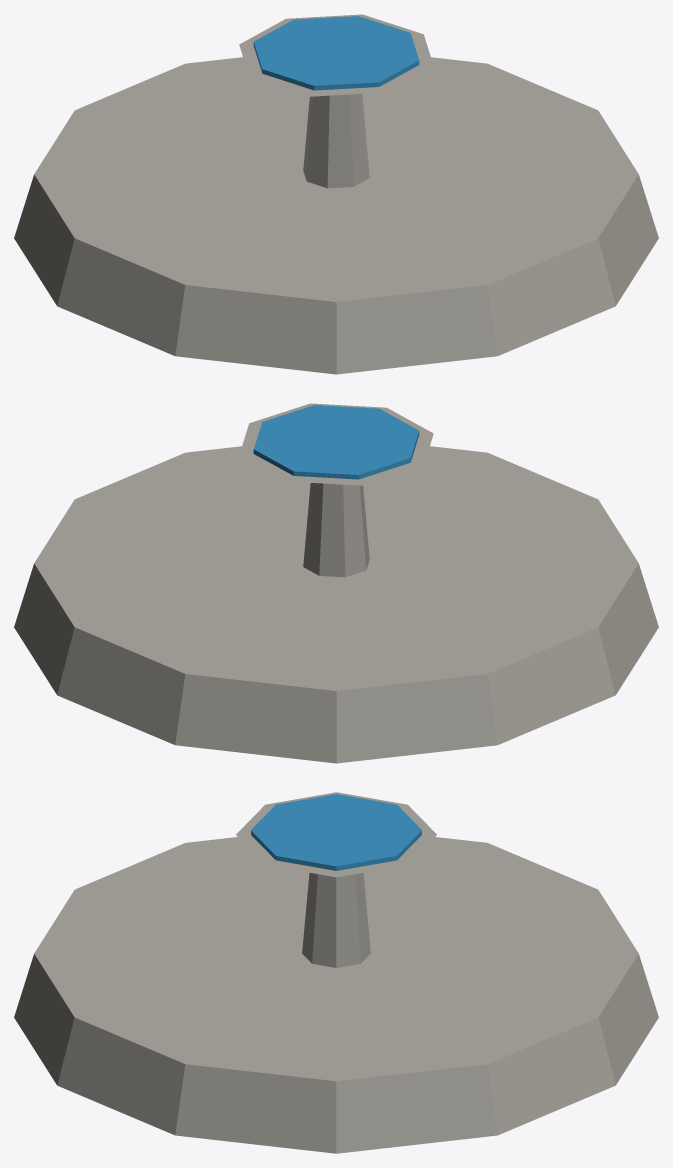
File: prop_fountain.glb
3 views of the same model, one above another, from view 1: azimuth 30°, elevation 25°; view 2: azimuth 150°, elevation 25°; view 3: azimuth 270°, elevation 25° (orthographic).
Visible parts, largest first — view 1: prop_fountain__mesh; view 2: prop_fountain__mesh; view 3: prop_fountain__mesh.
Part boxes in pixels (box(x1,y1,x2,y2)): prop_fountain__mesh: box(14, 14, 658, 374); prop_fountain__mesh: box(14, 403, 658, 763); prop_fountain__mesh: box(14, 792, 658, 1153).
Size of the model in its own units: 6.4 by 2.05 by 6.4.
